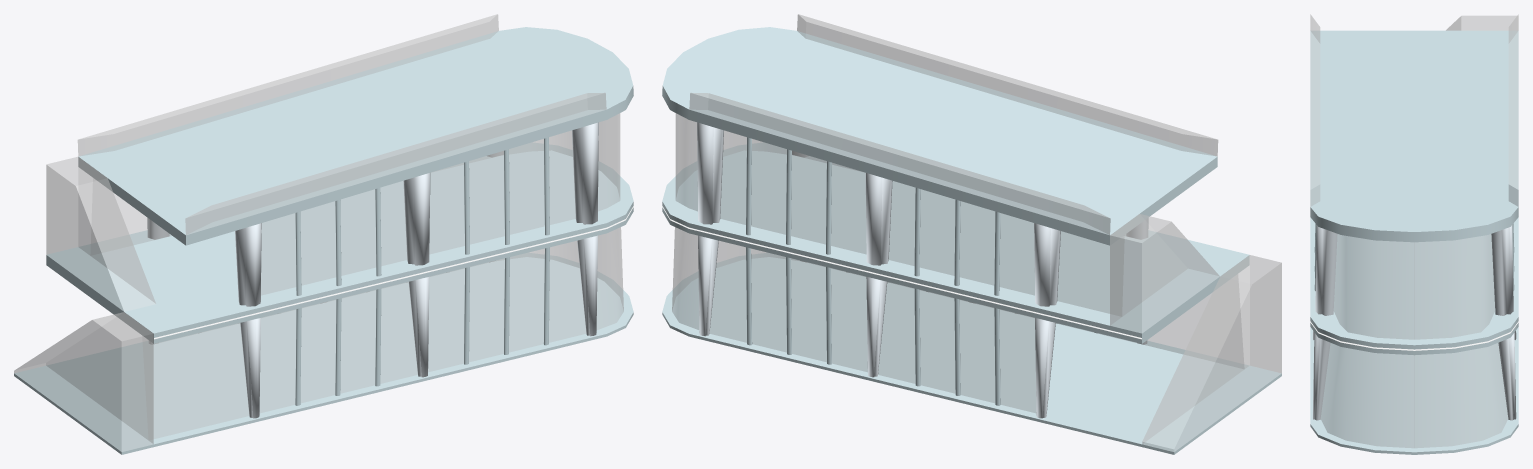
File: CinziaGabriel-Art_Gallery.gltf
3 renders of one model, left to right at view 1: azimuth 30°, elevation 25°; view 2: azimuth 150°, elevation 25°; view 3: azimuth 270°, elevation 25°, orthographic. The views are drawn at different scales.
Parts seen in each view (by area): view 1: Sopra, Base, Mezzo, Vetrata.2, Vetrata_sopra, Scala_sotto, Scala_Sopra, Cil_Grande.001, Cil_piccolo_BK, Cil_Grande.002, Cil_Grande.004, Cil_Grande.003 (+2 smaller); view 2: Sopra, Base, Mezzo, Vetrata.2, Vetrata_sopra, Scala_sotto, Scala_Sopra, Cil_Grande.001, Cil_piccolo_BK, Cil_Grande.002, Cil_Grande.004, Cil_Grande.003 (+2 smaller); view 3: Sopra, Mezzo, Base, Vetrata.2, Vetrata_sopra, Cil_Grande.002, Cil_Grande.001, Scala_Sopra, Cil_piccolo_BK.002.
Part boxes in pixels (<box>): Sopra: <box>77,14,633,245</box>; Base: <box>14,253,633,454</box>; Mezzo: <box>46,142,633,343</box>; Vetrata.2: <box>153,227,623,438</box>; Vetrata_sopra: <box>113,113,620,295</box>; Scala_sotto: <box>14,312,153,451</box>; Scala_Sopra: <box>46,157,155,311</box>; Cil_Grande.001: <box>149,235,597,418</box>; Cil_piccolo_BK: <box>198,247,549,405</box>; Cil_Grande.002: <box>488,122,598,224</box>; Cil_Grande.004: <box>147,218,261,306</box>; Cil_Grande.003: <box>403,173,430,265</box>; Sopra: <box>662,14,1218,245</box>; Base: <box>662,253,1281,454</box>; Mezzo: <box>662,142,1249,343</box>; Vetrata.2: <box>672,227,1212,412</box>; Vetrata_sopra: <box>675,113,1124,313</box>; Scala_sotto: <box>1142,255,1281,451</box>; Scala_Sopra: <box>1110,214,1219,333</box>; Cil_Grande.001: <box>698,235,1147,418</box>; Cil_piccolo_BK: <box>746,247,1097,405</box>; Cil_Grande.002: <box>697,122,807,224</box>; Cil_Grande.004: <box>1034,218,1148,306</box>; Cil_Grande.003: <box>865,173,892,265</box>; Sopra: <box>1310,14,1518,242</box>; Mezzo: <box>1310,217,1518,355</box>; Base: <box>1310,327,1518,454</box>; Vetrata.2: <box>1321,343,1507,447</box>; Vetrata_sopra: <box>1334,234,1494,339</box>; Cil_Grande.002: <box>1315,225,1513,315</box>; Cil_Grande.001: <box>1312,331,1516,420</box>; Scala_Sopra: <box>1446,15,1518,30</box>; Cil_piccolo_BK.002: <box>1314,223,1514,290</box>.
Size of what is drawn, in the model's own units: 34.01 by 14.54 by 11.62.
